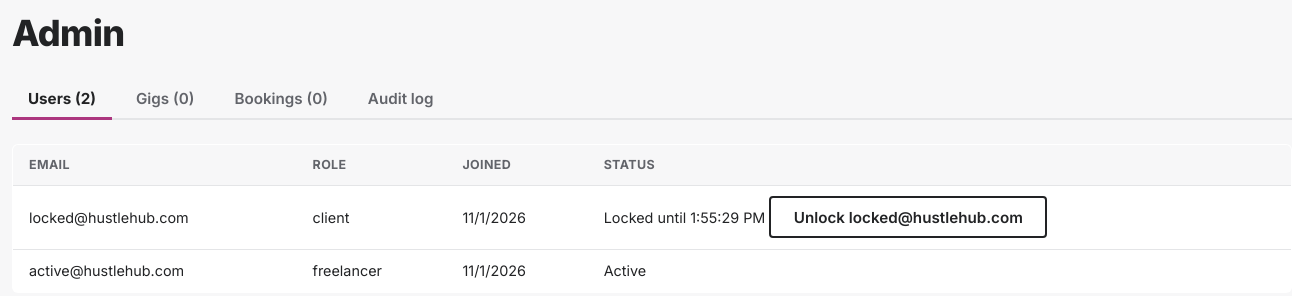
Test case: AdminPage › shows a friendly message when the audit log cannot be loaded
Expected: the text "Locked until 1:55:29 PM Unlock locked@hustlehub.com" is shown, [588,185,1291,249]
Click the button "Audit log": (401, 100) [352,79,450,120]
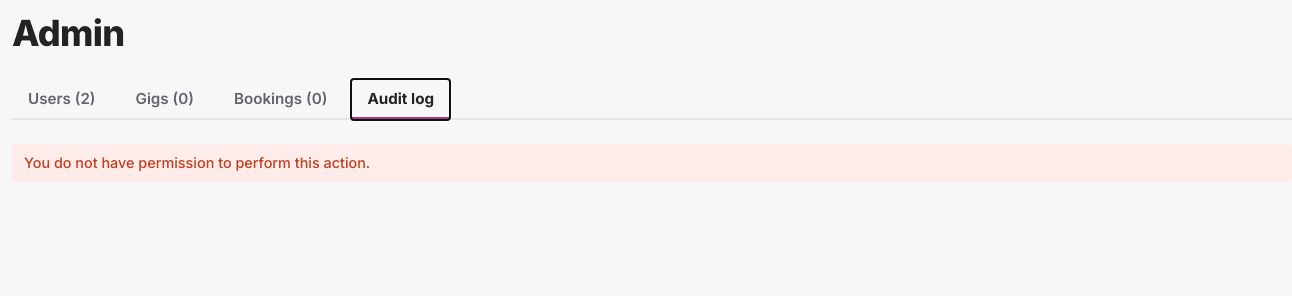
Now the message shows "You do not have permission", box [24,154,370,171]
